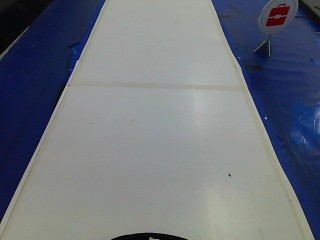company: (256, 0, 298, 35)
